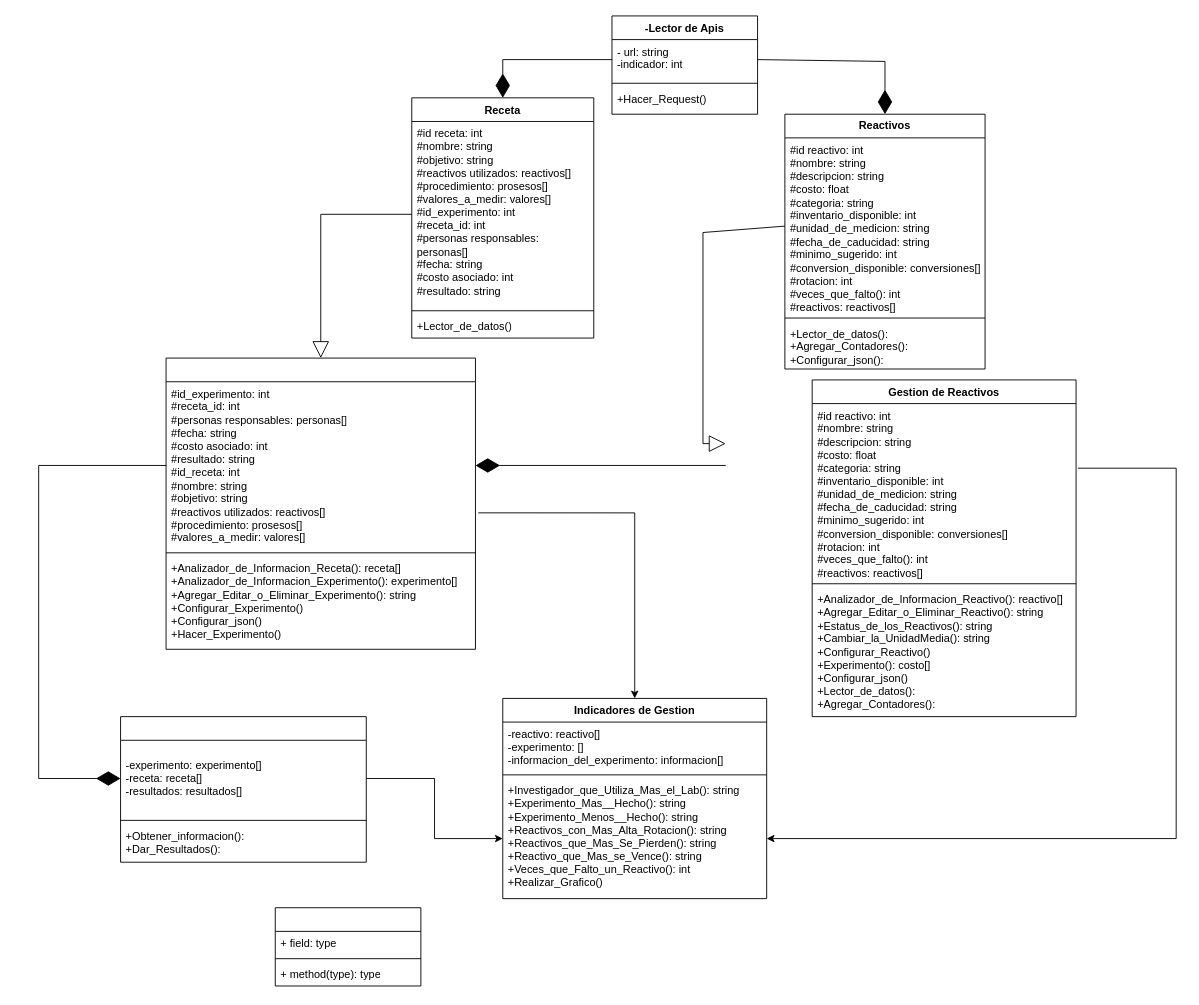
The diagram is 1199 pixels wide and 1005 high, and some of its shapes have lost their labels. Each missing label, with the box of its shape:
Gestion de Experimentos: (165, 357, 475, 649)
Gestion de Resultados: (120, 716, 366, 862)
Laboratorio: (274, 907, 421, 986)
